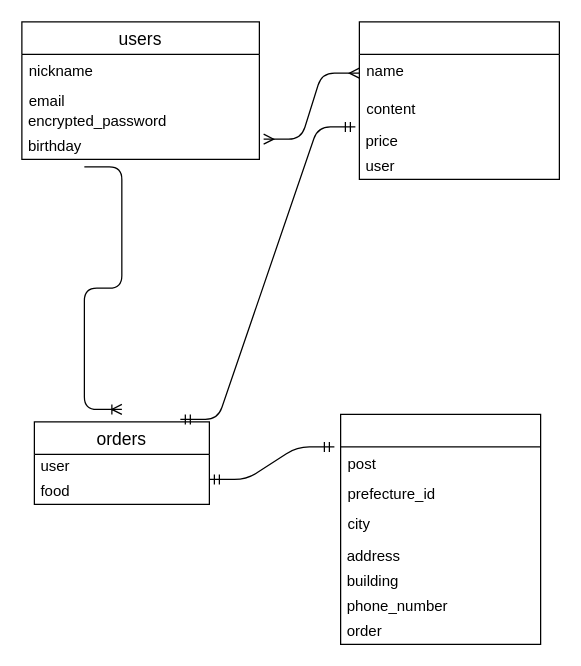
This 581x666 diagram has some shape labels left out. Here are the shapes that lost their labels. From the top down, the box of each, then its label:
(358, 21, 559, 179): foods
(339, 413, 541, 644): addresses
